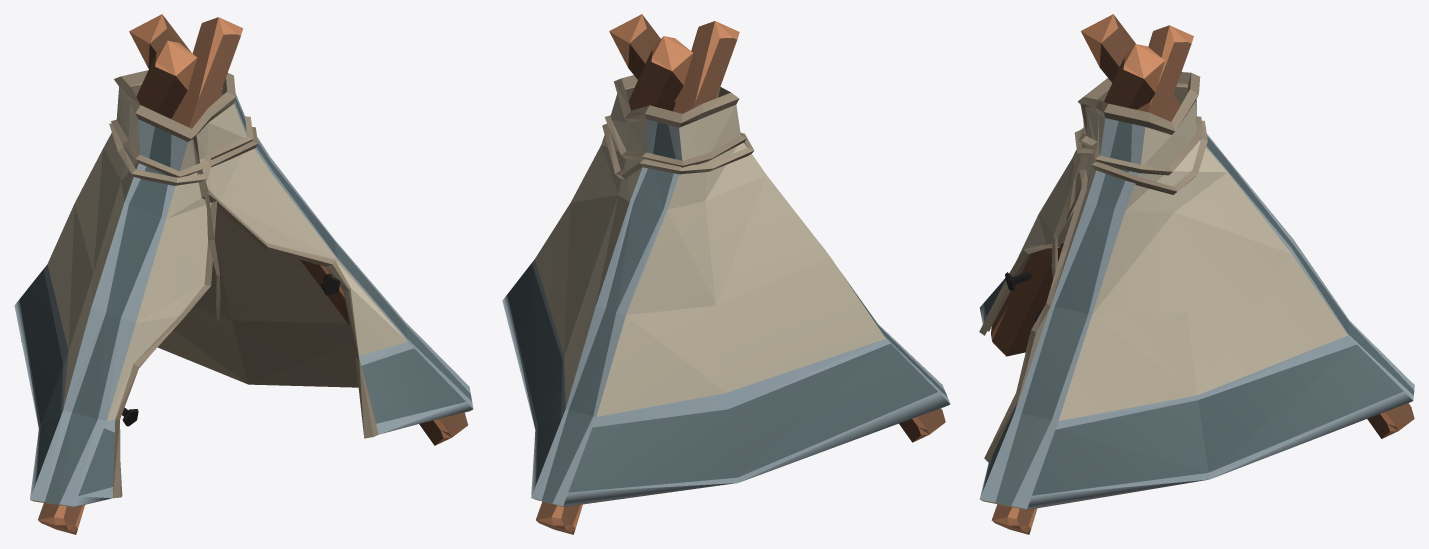
Rendered from Camp.fbx.
3 views of the same model, side by side, from view 1: azimuth 30°, elevation 25°; view 2: azimuth 150°, elevation 25°; view 3: azimuth 270°, elevation 25° (orthographic).
Visible parts, largest first — view 1: Camp; view 2: Camp; view 3: Camp.
Boxes of the visible parts, left/top/right/bottom form: Camp: left=14, top=14, right=473, bottom=534; Camp: left=502, top=14, right=950, bottom=534; Camp: left=979, top=14, right=1414, bottom=534.
Size of the model in its own units: 159 by 143 by 137.
